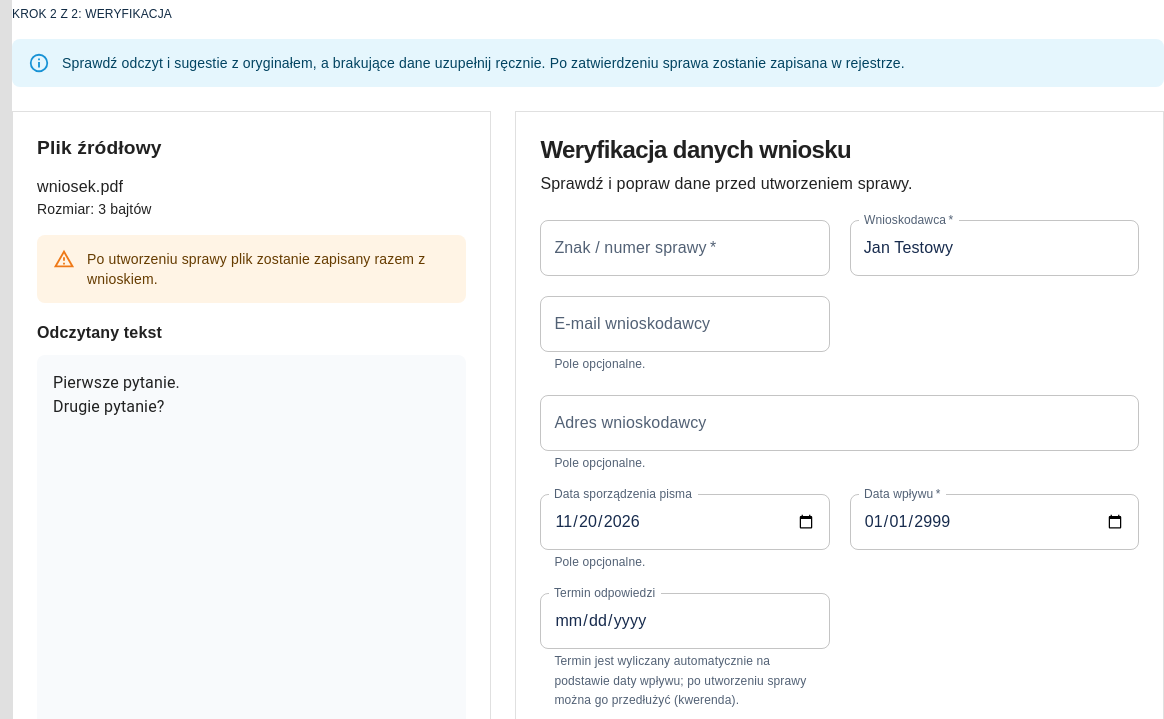
Test case: request verification › 400 for a future date marks the received date field
The width and height of the screenshot is (1164, 719).
In the field labelled "Znak / numer sprawy *": (685, 248) [540,220,830,276], type "A/1"
(page scrolled)
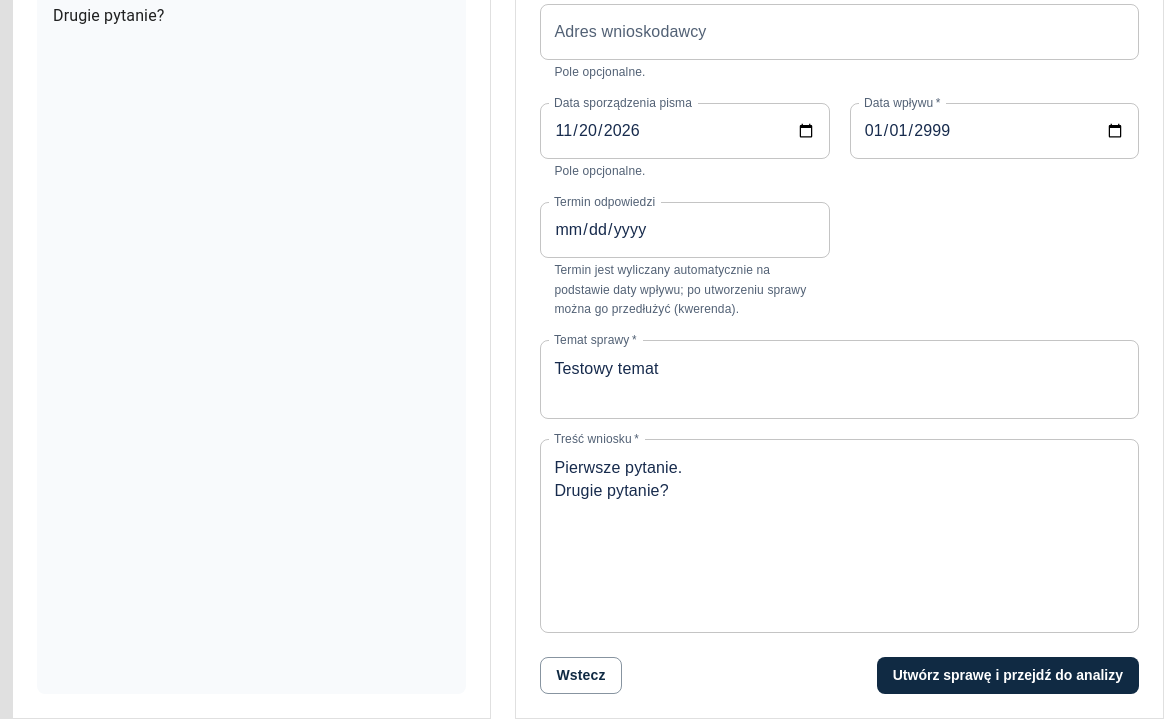
Click the button "Utwórz sprawę i przejdź do analizy": (1008, 676) [877,657,1139,694]
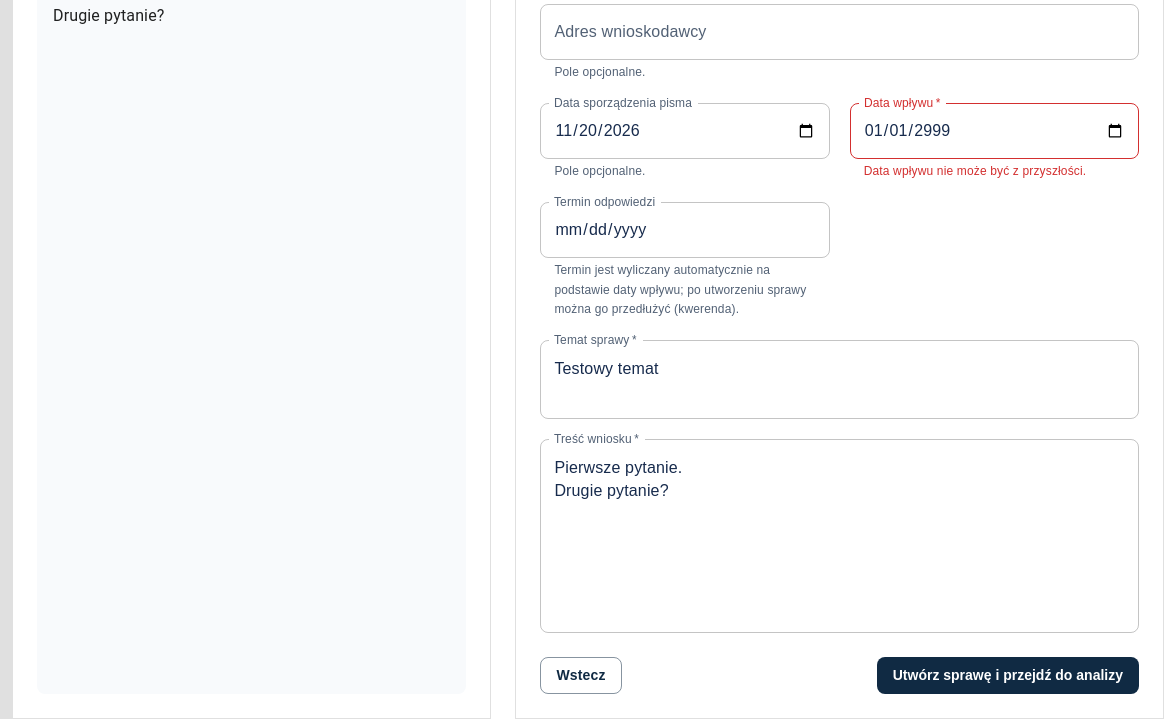
expect the text "Data wpływu nie może być z przyszłości." is shown: met, box [864,162,1125,182]
